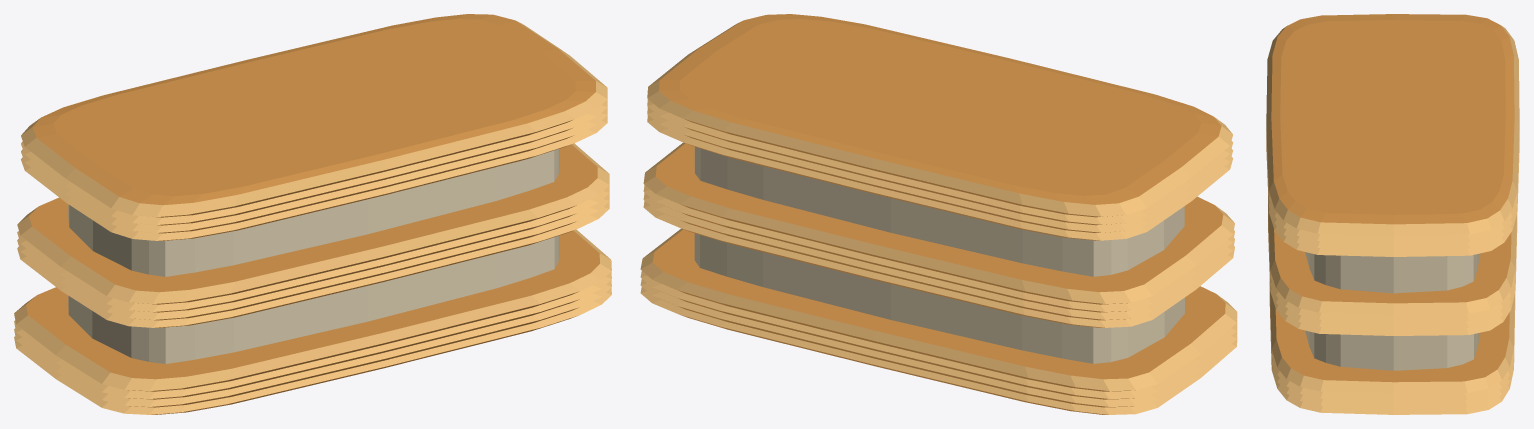
3 renders of one model, left to right at view 1: azimuth 30°, elevation 25°; view 2: azimuth 150°, elevation 25°; view 3: azimuth 270°, elevation 25°, orthographic. The views are drawn at different scales.
Parts seen in each view (by area): view 1: Upper_LaminatedPastrySheet, Lower_LaminatedPastrySheet, Middle_LaminatedPastrySheet, Lower_ContinuousScallopedCream, Upper_ContinuousScallopedCream; view 2: Upper_LaminatedPastrySheet, Lower_LaminatedPastrySheet, Middle_LaminatedPastrySheet, Lower_ContinuousScallopedCream, Upper_ContinuousScallopedCream; view 3: Upper_LaminatedPastrySheet, Middle_LaminatedPastrySheet, Lower_LaminatedPastrySheet, Upper_ContinuousScallopedCream, Lower_ContinuousScallopedCream.
Part boxes in pixels (x1,y1,x2,y2): Upper_LaminatedPastrySheet: (21,14,607,240); Lower_LaminatedPastrySheet: (14,229,611,414); Middle_LaminatedPastrySheet: (17,143,609,327); Lower_ContinuousScallopedCream: (68,235,559,363); Upper_ContinuousScallopedCream: (68,148,559,276); Upper_LaminatedPastrySheet: (647,14,1233,240); Lower_LaminatedPastrySheet: (640,228,1237,414); Middle_LaminatedPastrySheet: (643,142,1234,327); Lower_ContinuousScallopedCream: (694,233,1184,363); Upper_ContinuousScallopedCream: (694,147,1184,276); Upper_LaminatedPastrySheet: (1266,14,1519,256); Middle_LaminatedPastrySheet: (1268,196,1517,335); Lower_LaminatedPastrySheet: (1269,281,1515,414); Upper_ContinuousScallopedCream: (1305,252,1480,293); Lower_ContinuousScallopedCream: (1305,330,1480,370).
Size of the model in its own units: 0.274 by 0.107 by 0.13.
